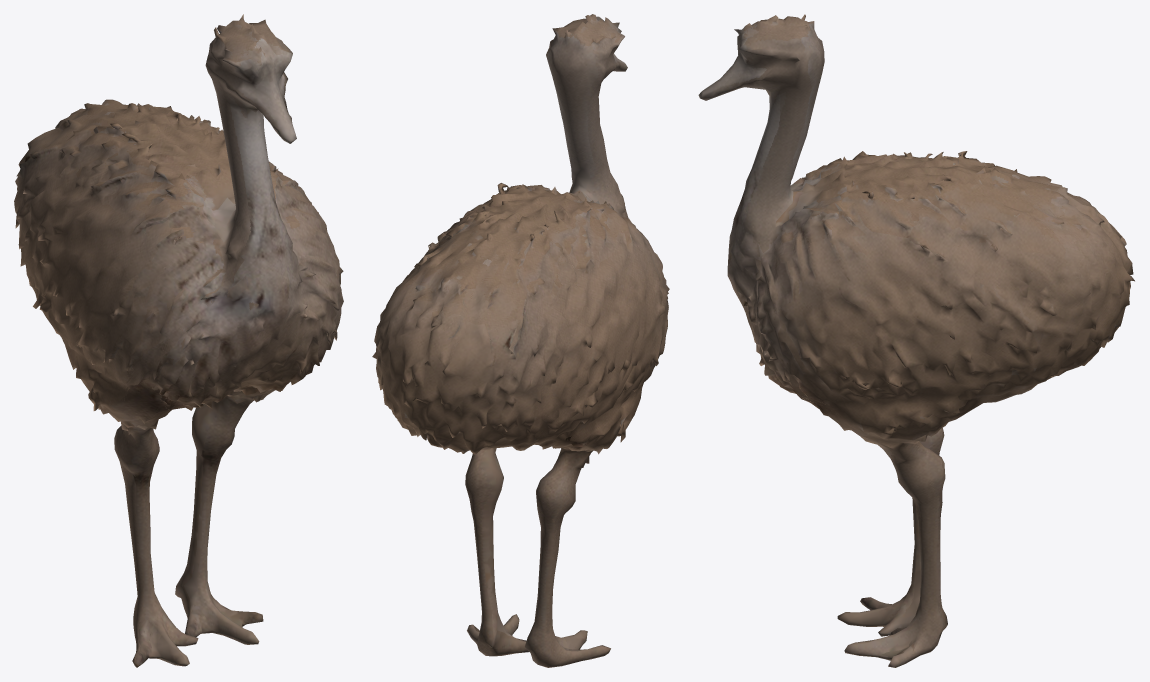
Rendered from nandu.glb.
3 renders of one model, left to right at view 1: azimuth 30°, elevation 25°; view 2: azimuth 150°, elevation 25°; view 3: azimuth 270°, elevation 25°, orthographic. The views are drawn at different scales.
Parts seen in each view (by area): view 1: temp_mesh.ply; view 2: temp_mesh.ply; view 3: temp_mesh.ply.
Boxes of the visible parts, x1,y1,x2,y2 form: temp_mesh.ply: (14,14,343,667); temp_mesh.ply: (372,14,669,667); temp_mesh.ply: (698,14,1134,667).
Size of the model in its own units: 0.545 by 1.5 by 0.9499.
Materials: 1 (1 with a texture image).
